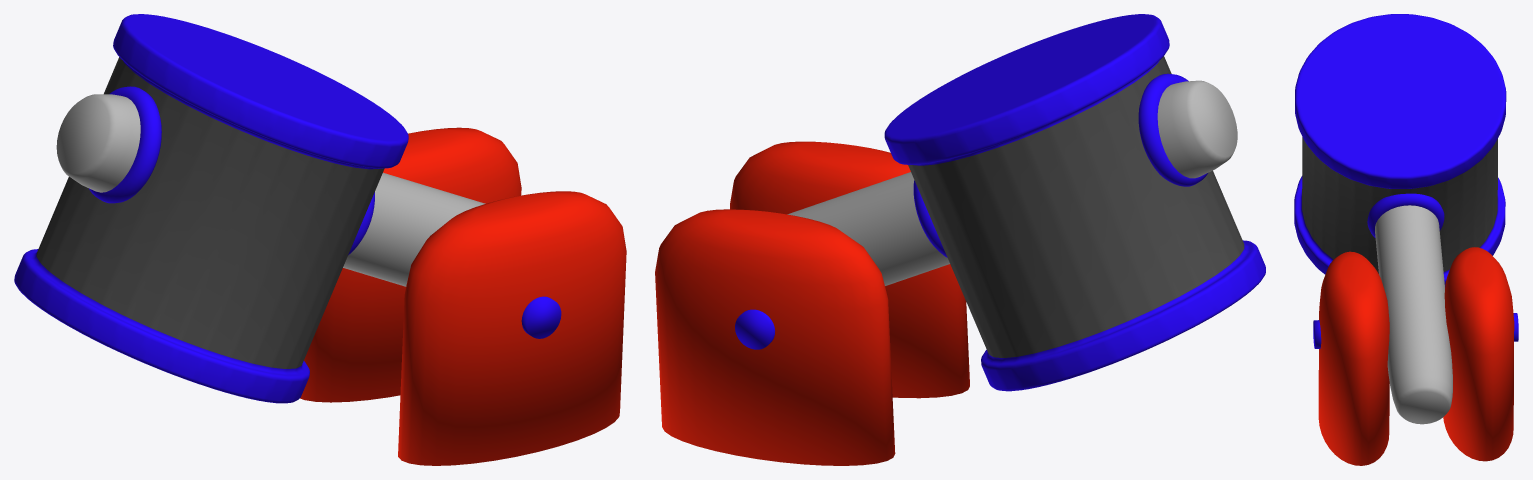
Rendered from Obstacle4.fbx.
3 views of the same model, side by side, from view 1: azimuth 30°, elevation 25°; view 2: azimuth 150°, elevation 25°; view 3: azimuth 270°, elevation 25° (orthographic). The views are drawn at different scales.
Parts seen in each view (by area): view 1: Torus.004, Cylinder.004, Cylinder.005, Cylinder.007; view 2: Torus.004, Cylinder.005, Cylinder.004, Cylinder.008; view 3: Torus.004, Cylinder.004, Cylinder.005.
Boxes of the visible parts, x1=… form: Torus.004: x1=14, y1=14, x2=485, y2=403; Cylinder.004: x1=398, y1=191, x2=626, y2=465; Cylinder.005: x1=300, y1=127, x2=521, y2=402; Cylinder.007: x1=521, y1=296, x2=561, y2=338; Torus.004: x1=787, y1=14, x2=1265, y2=391; Cylinder.005: x1=655, y1=209, x2=895, y2=465; Cylinder.004: x1=730, y1=141, x2=969, y2=398; Cylinder.008: x1=735, y1=309, x2=774, y2=349; Torus.004: x1=1294, y1=14, x2=1506, y2=424; Cylinder.004: x1=1318, y1=251, x2=1389, y2=465; Cylinder.005: x1=1443, y1=247, x2=1514, y2=461.
Size of the model in its own units: 532 by 397 by 265.
